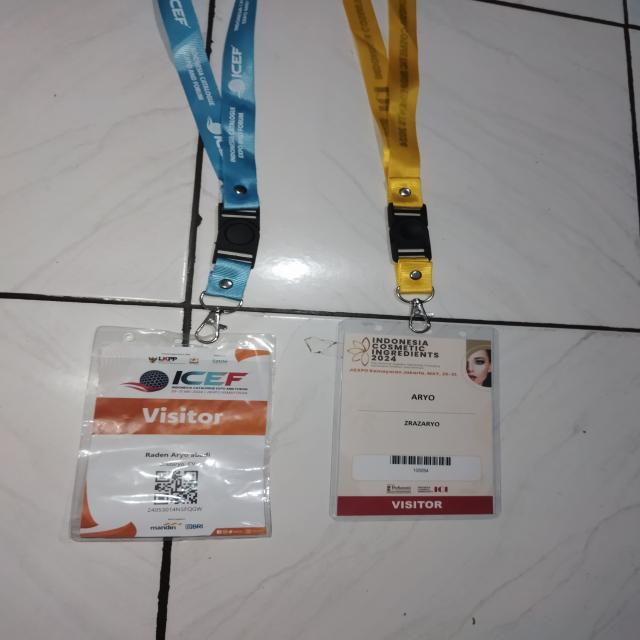ID_card: (67, 326, 276, 542), (328, 318, 499, 521)
